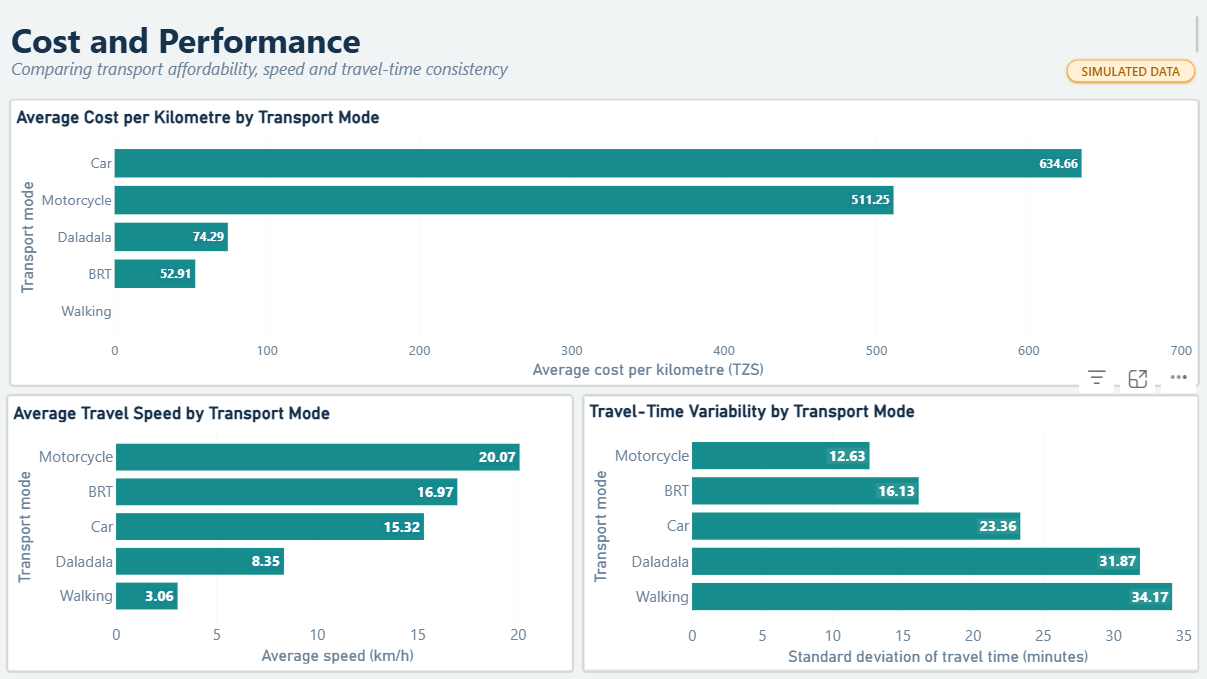

The page's visual inventory and layout, read from the dashboard file:
{"tool":"powerbi","page":{"name":"02- Cost & Performance","canvas":[3840,2160],"ordinal":1},"visuals":[{"type":"textbox","box":[39,53.7,3769,126.9],"z":0},{"type":"textbox","box":[39,180.5,3767.1,136.6],"z":1000},{"type":"shape","box":[3381.6,180.5,424.5,87.8],"z":2000},{"type":"clusteredBarChart","title":"Average Cost per Kilometre by Transport Mode","fields":{"Category":["public trips.mode"],"Y":["public trips.Average Cost per KM (TZS)"]},"box":[39,317.2,3767.1,902.7],"z":3000},{"type":"clusteredBarChart","title":"Average Travel Speed by Transport Mode","fields":{"Category":["public trips.mode"],"Y":["public trips.Average Speed (km/h)"]},"box":[28.6,1257.1,1790.5,871.4],"z":4000},{"type":"clusteredBarChart","title":"Travel-Time Variability by Transport Mode","fields":{"Category":["public trips.mode"],"Y":["public trips.Travel Time Std Dev (min)"]},"box":[1857.1,1257.1,1947.6,871.4],"z":5000}]}

Visuals, with their boxes in screenshot pixels (x1, y1, x2, y2), scaled from the page's 3840x2160 canvas onto the 1207x679 screenshot:
textbox: region(12, 17, 1197, 57)
textbox: region(12, 57, 1196, 100)
shape: region(1063, 57, 1196, 84)
"Average Cost per Kilometre by Transport Mode" clusteredBarChart: region(12, 100, 1196, 383)
"Average Travel Speed by Transport Mode" clusteredBarChart: region(9, 395, 572, 669)
"Travel-Time Variability by Transport Mode" clusteredBarChart: region(584, 395, 1196, 669)
